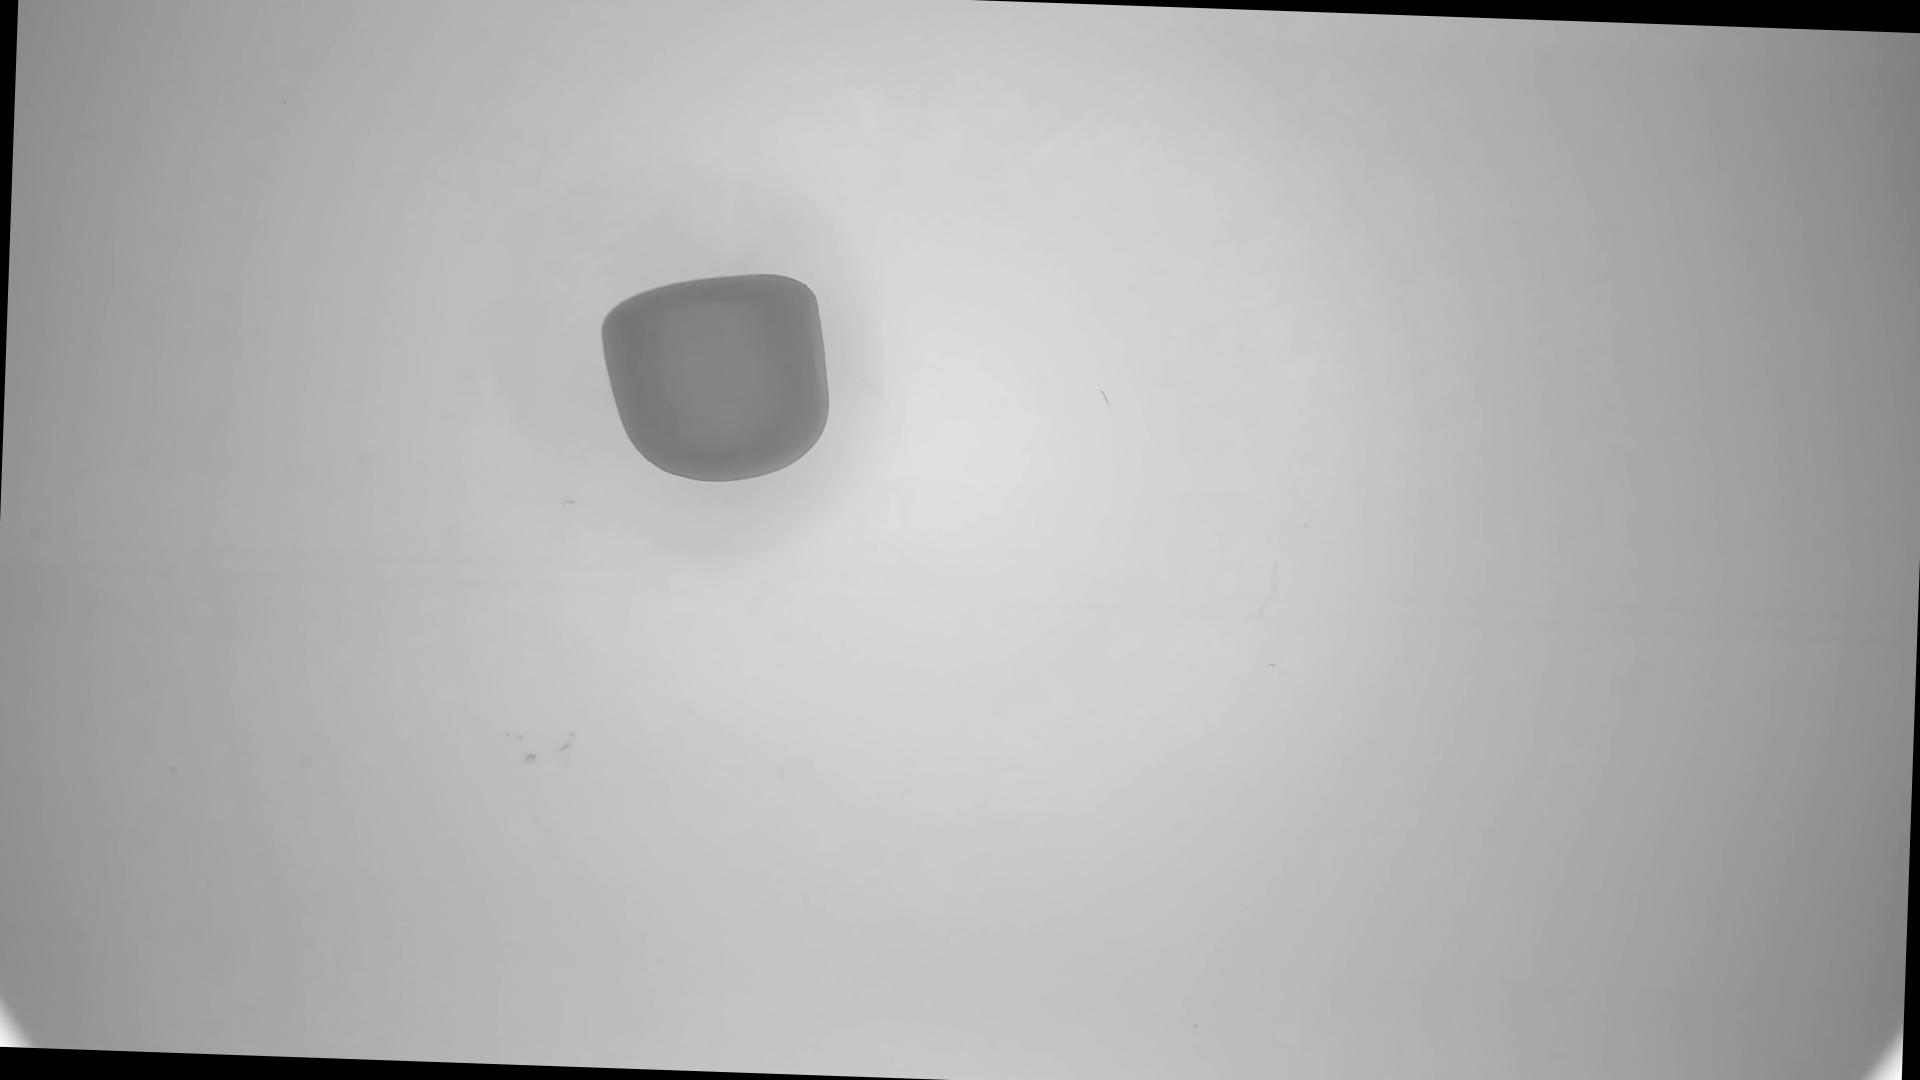normal: (595, 265, 837, 491)
